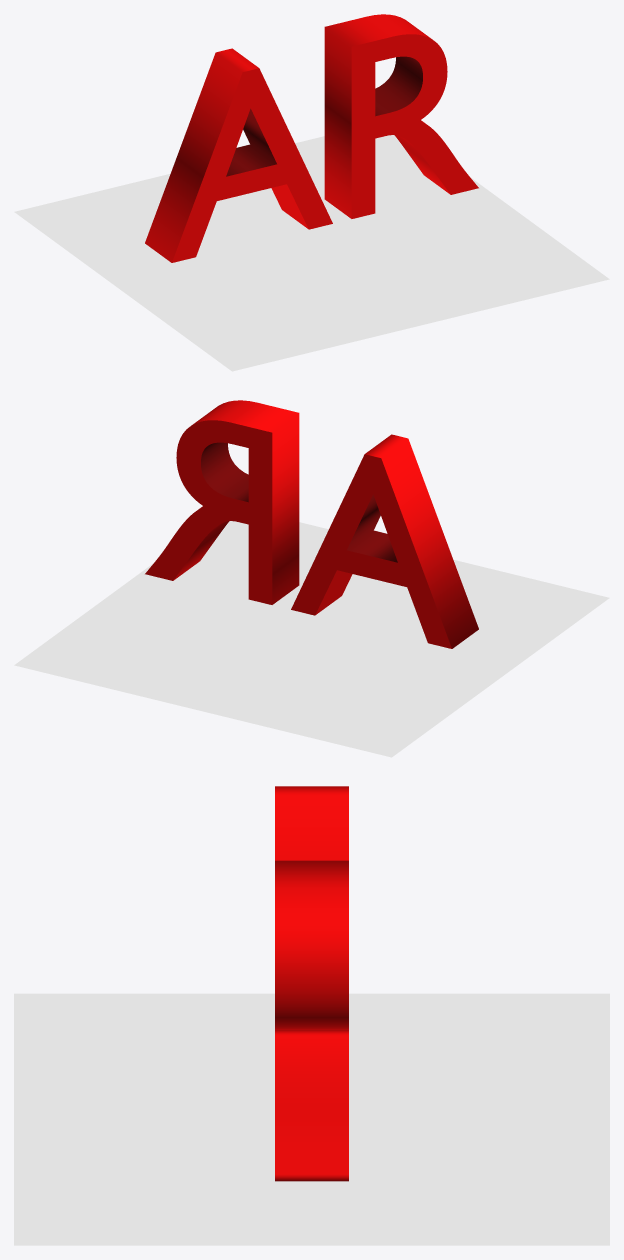
The picture shows the model from 3 angles, top to bottom: view 1: azimuth 30°, elevation 25°; view 2: azimuth 150°, elevation 25°; view 3: azimuth 270°, elevation 25°; orthographic projection. The views are drawn at different scales.
Visible parts, largest first — view 1: 平面, テキスト; view 2: 平面, テキスト; view 3: 平面, テキスト.
Part boxes in pixels (box(x1,y1,x2,y2)): 平面: box(14, 135, 609, 371); テキスト: box(145, 14, 478, 262); 平面: box(14, 521, 609, 757); テキスト: box(145, 400, 478, 648); 平面: box(14, 993, 609, 1245); テキスト: box(275, 786, 348, 1181).
Bounding box in the file's own units: 5 × 2.57 × 5.
